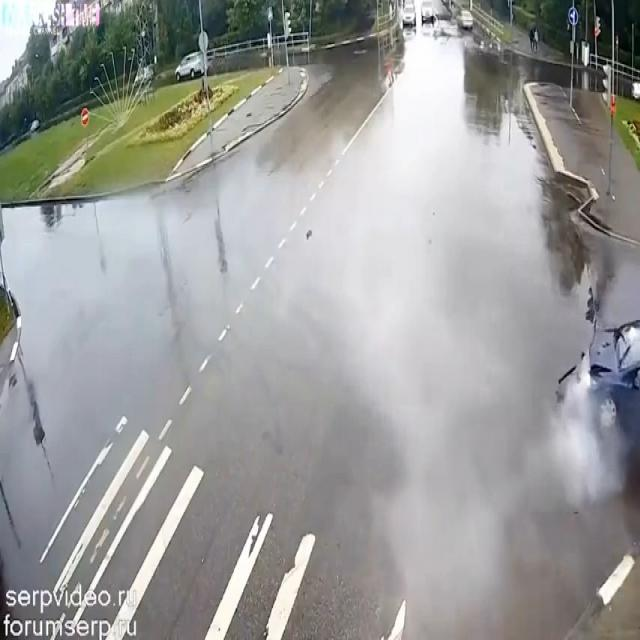Accident: (533, 269, 640, 489)
